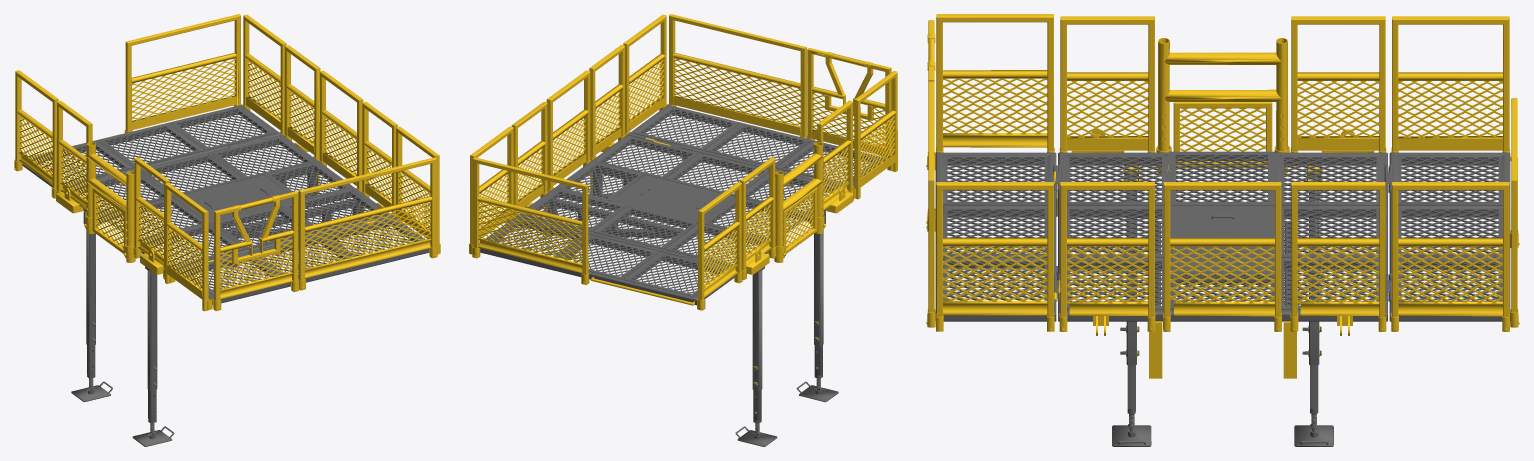
The model's file is Plataforma.fbx.
3 renders of one model, left to right at view 1: azimuth 30°, elevation 25°; view 2: azimuth 150°, elevation 25°; view 3: azimuth 270°, elevation 25°, orthographic. The views are drawn at different scales.
Visible parts, largest first — view 1: Plataforma; view 2: Plataforma; view 3: Plataforma.
Part boxes in pixels (<box>): Plataforma: <box>14,14,440,446</box>; Plataforma: <box>469,14,897,446</box>; Plataforma: <box>926,14,1519,446</box>.
Bounding box in the file's own units: 273 × 288 × 374.
